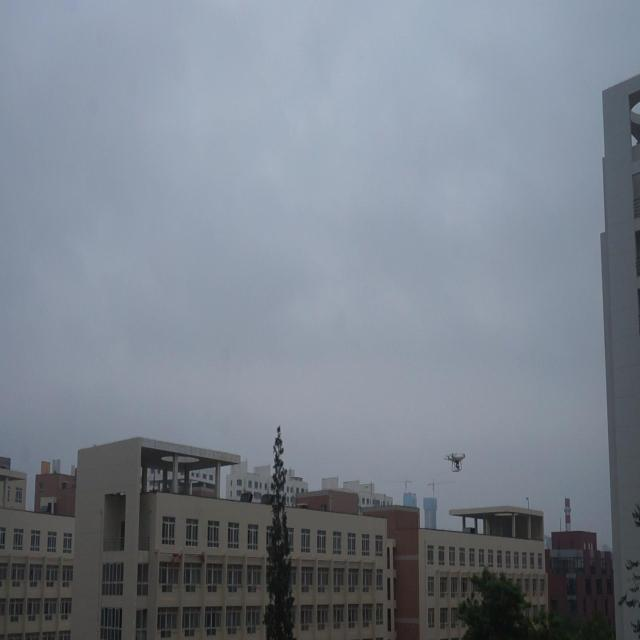drone: (444, 451, 467, 474)
